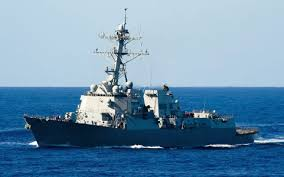tau_muctieu: (38, 32, 253, 147)
